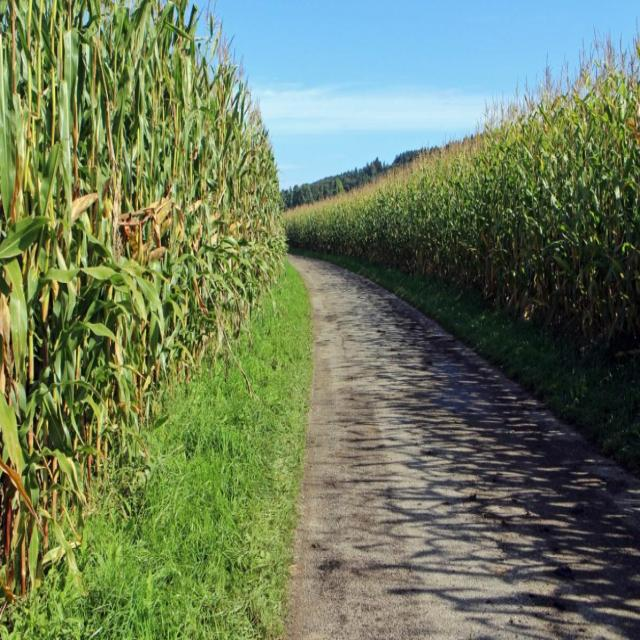row: (253, 247, 640, 639)
